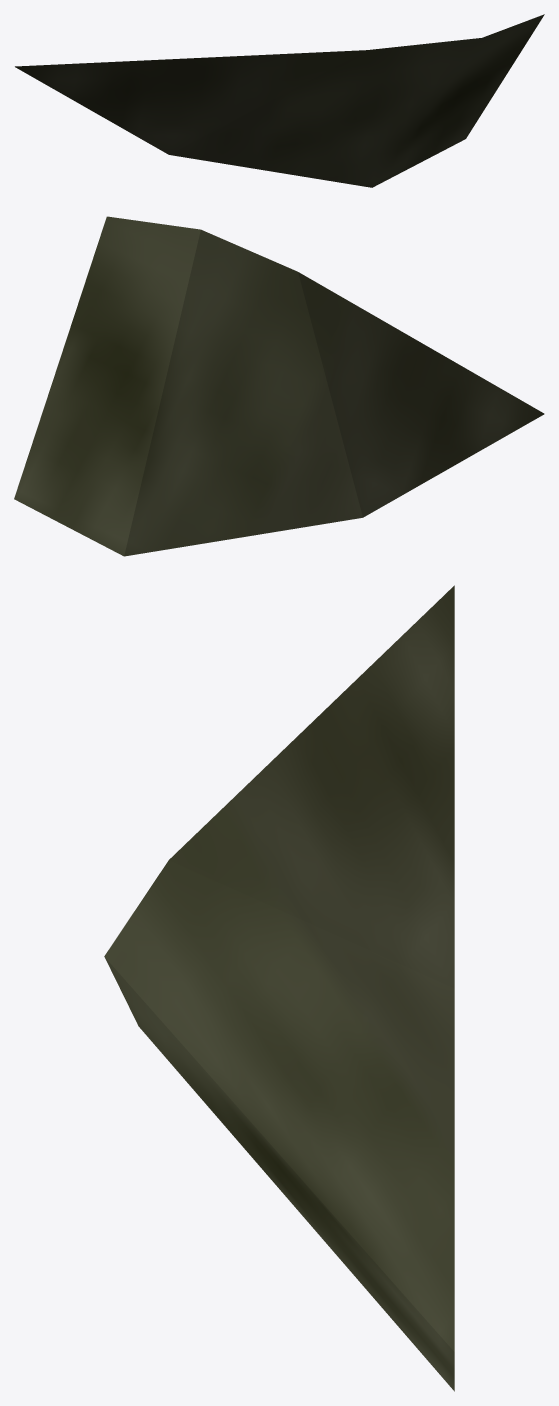
3 views of the same model, one above another, from view 1: azimuth 30°, elevation 25°; view 2: azimuth 150°, elevation 25°; view 3: azimuth 270°, elevation 25° (orthographic). The views are drawn at different scales.
Bounding box in the file's own units: 0.6361 × 0.2808 × 0.2136.
Materials: 1 (1 with a texture image).
